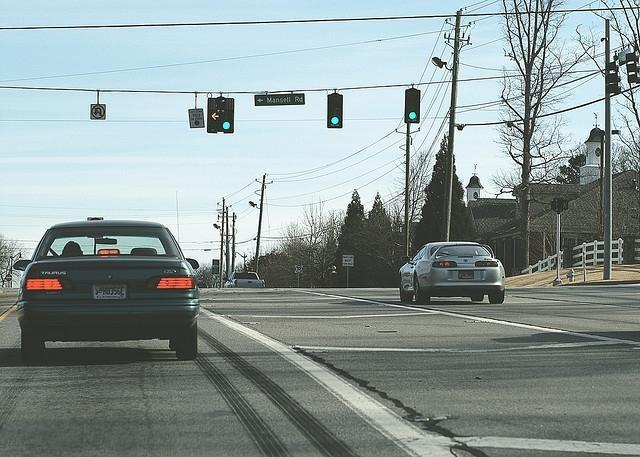car: (8, 218, 202, 367), (398, 241, 505, 304)
truck: (226, 271, 265, 288)
